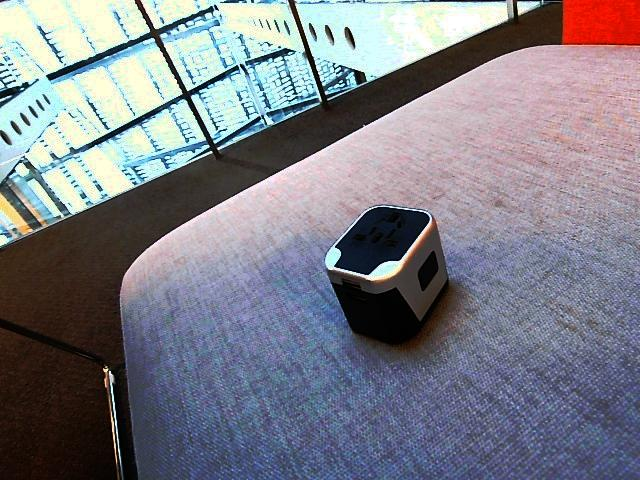adapter: (323, 204, 449, 344)
